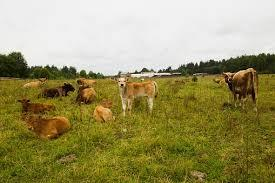cow: (114, 75, 159, 119), (223, 67, 259, 112), (20, 113, 72, 140), (36, 82, 75, 101), (17, 98, 57, 115), (92, 100, 115, 122), (76, 87, 97, 104), (23, 77, 48, 90), (76, 78, 97, 88)
